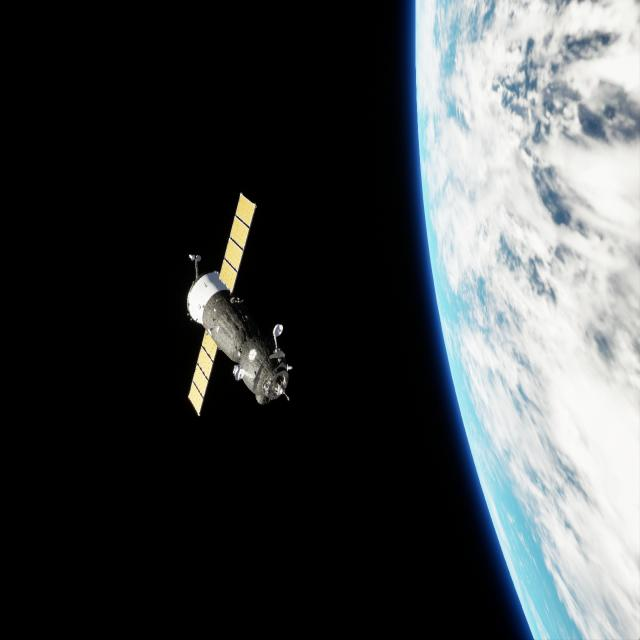Satellites revolving around earth: (183, 190, 294, 420)
